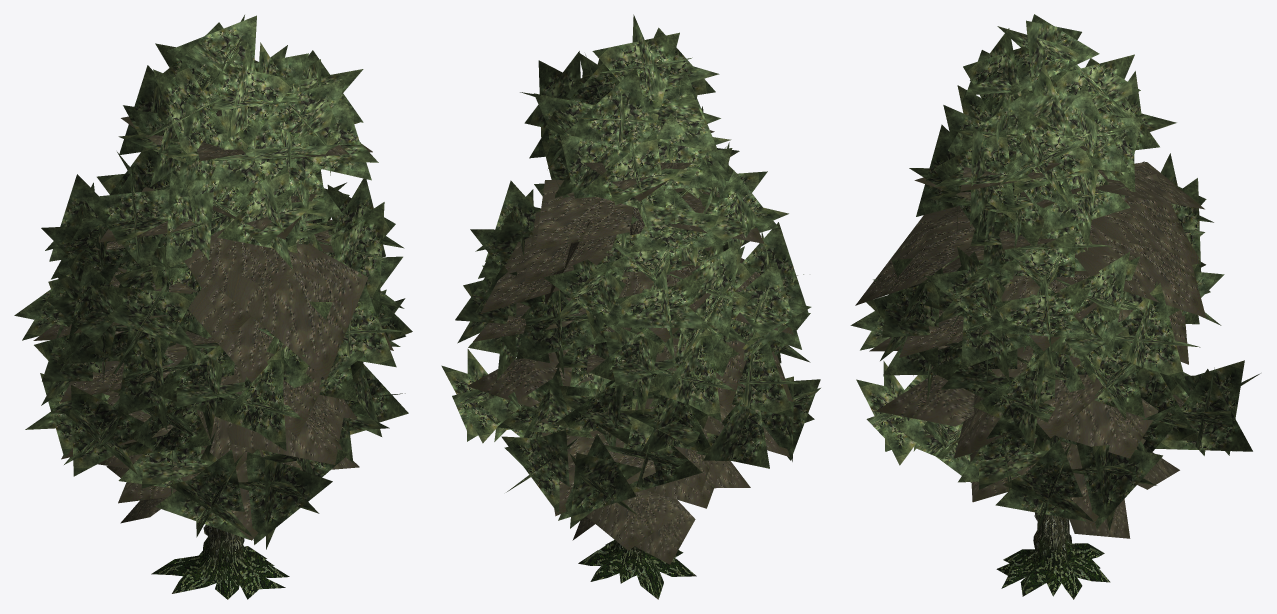
The model's file is Tree.FBX.
The picture shows the model from 3 angles, left to right: view 1: azimuth 30°, elevation 25°; view 2: azimuth 150°, elevation 25°; view 3: azimuth 270°, elevation 25°; orthographic projection. The views are drawn at different scales.
Visible parts, largest first — view 1: Leafs, Oak; view 2: Leafs, Oak; view 3: Leafs, Oak.
Boxes of the visible parts, bbox=[...] form: Leafs: bbox=[14, 15, 412, 549]; Oak: bbox=[33, 110, 393, 599]; Leafs: bbox=[441, 14, 820, 528]; Oak: bbox=[467, 130, 793, 599]; Leafs: bbox=[850, 14, 1260, 531]; Oak: bbox=[855, 144, 1206, 599].
Bounding box in the file's own units: 1644 × 2503 × 1656.
